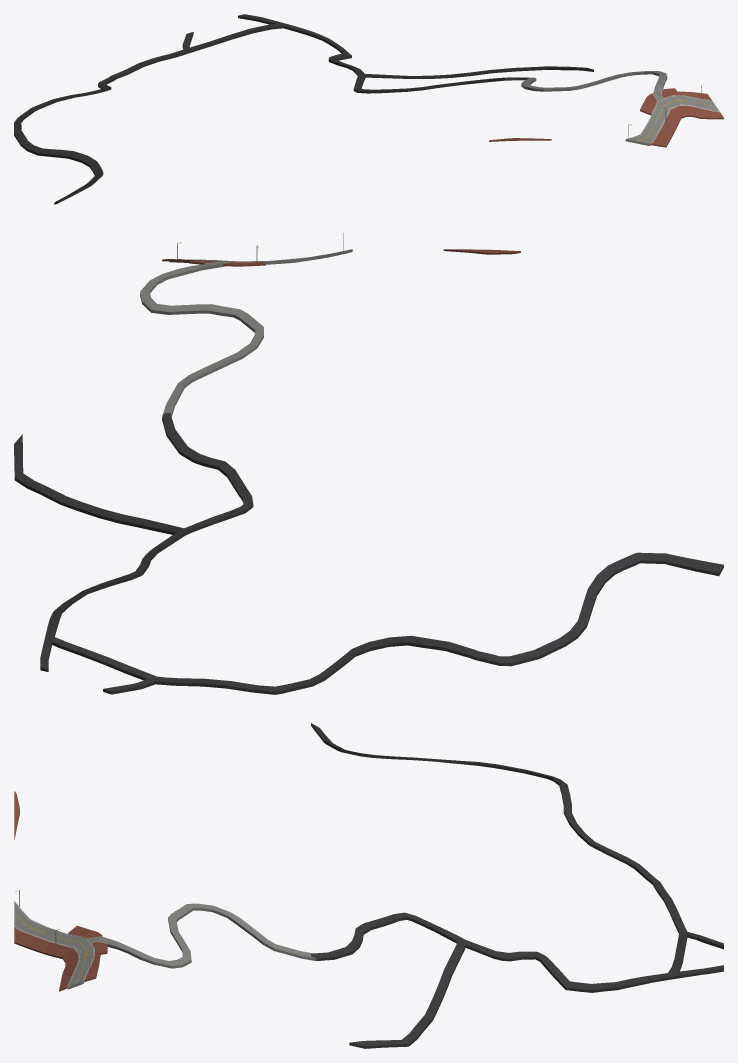
3 views of the same model, one above another, from view 1: azimuth 30°, elevation 25°; view 2: azimuth 150°, elevation 25°; view 3: azimuth 270°, elevation 25° (orthographic). The views are drawn at different scales.
Size of the model in its own units: 296 by 66.81 by 292.
